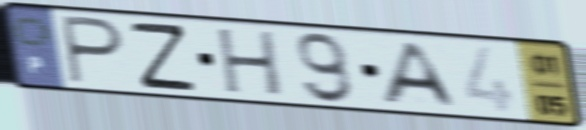4: (460, 43, 518, 116)
9: (292, 29, 358, 106)
A: (376, 40, 463, 111)
H: (215, 26, 286, 100)
P: (58, 12, 128, 89)
Z: (126, 19, 200, 92)
